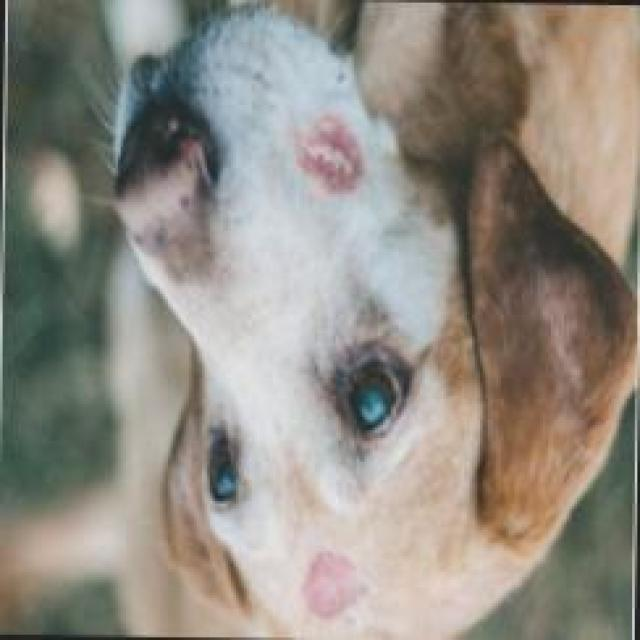allergic dermatitis: (296, 118, 365, 202), (299, 548, 370, 628)
